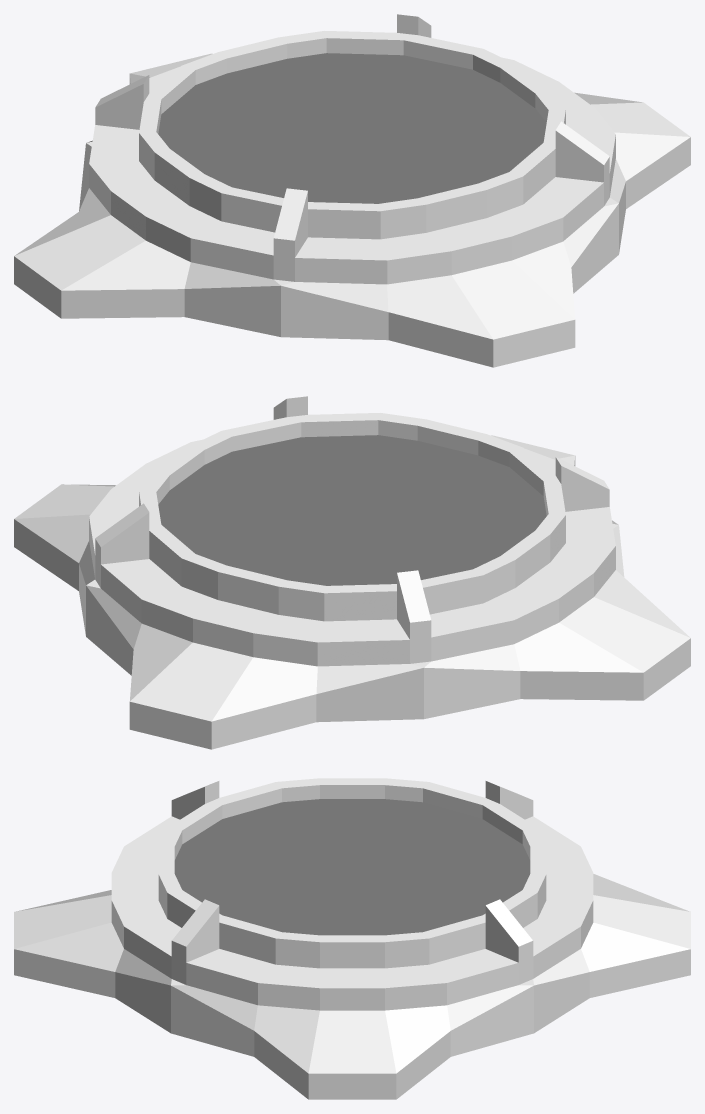
File: Thermal_Discouragement_Beam_Button.fbx
The picture shows the model from 3 angles, top to bottom: view 1: azimuth 30°, elevation 25°; view 2: azimuth 150°, elevation 25°; view 3: azimuth 270°, elevation 25°; orthographic projection. The views are drawn at different scales.
Visible parts, largest first — view 1: Base, Receiver; view 2: Base, Receiver; view 3: Base, Receiver.
Boxes of the visible parts, x1,y1,x2,y2 form: Base: (14, 14, 690, 367); Receiver: (158, 53, 546, 203); Base: (14, 396, 690, 749); Receiver: (158, 435, 546, 585); Base: (14, 778, 690, 1099); Receiver: (174, 799, 530, 935).
Size of the model in its own units: 264 by 48.83 by 264.
2 materials, 1 textured.
